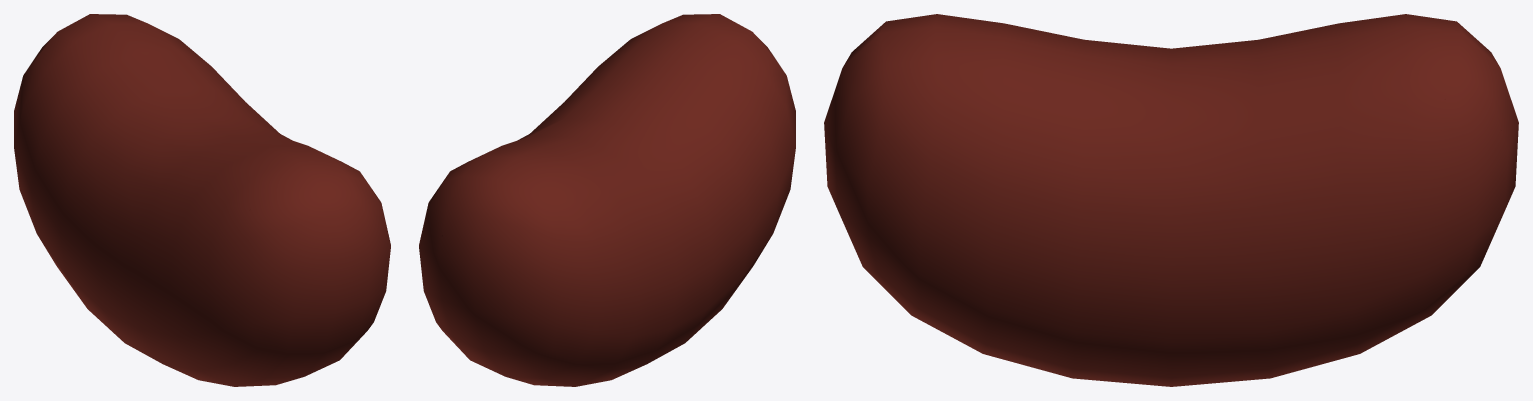
The model's file is boon.fbx.
The picture shows the model from 3 angles, left to right: view 1: azimuth 30°, elevation 25°; view 2: azimuth 150°, elevation 25°; view 3: azimuth 270°, elevation 25°; orthographic projection. The views are drawn at different scales.
Visible parts, largest first — view 1: Cube; view 2: Cube; view 3: Cube.
Boxes of the visible parts, left/top/right/bottom form: Cube: left=14, top=14, right=390, bottom=386; Cube: left=419, top=14, right=795, bottom=386; Cube: left=824, top=14, right=1518, bottom=386.
Size of the model in its own units: 183 by 218 by 398.
